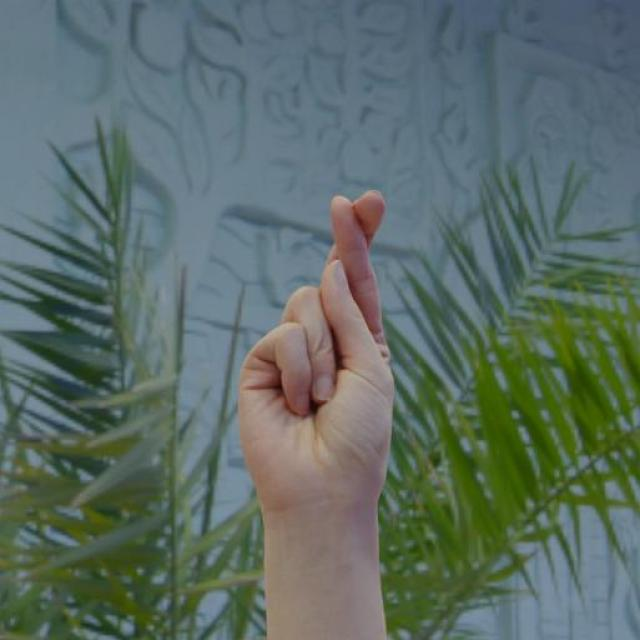R: (233, 186, 398, 522)
